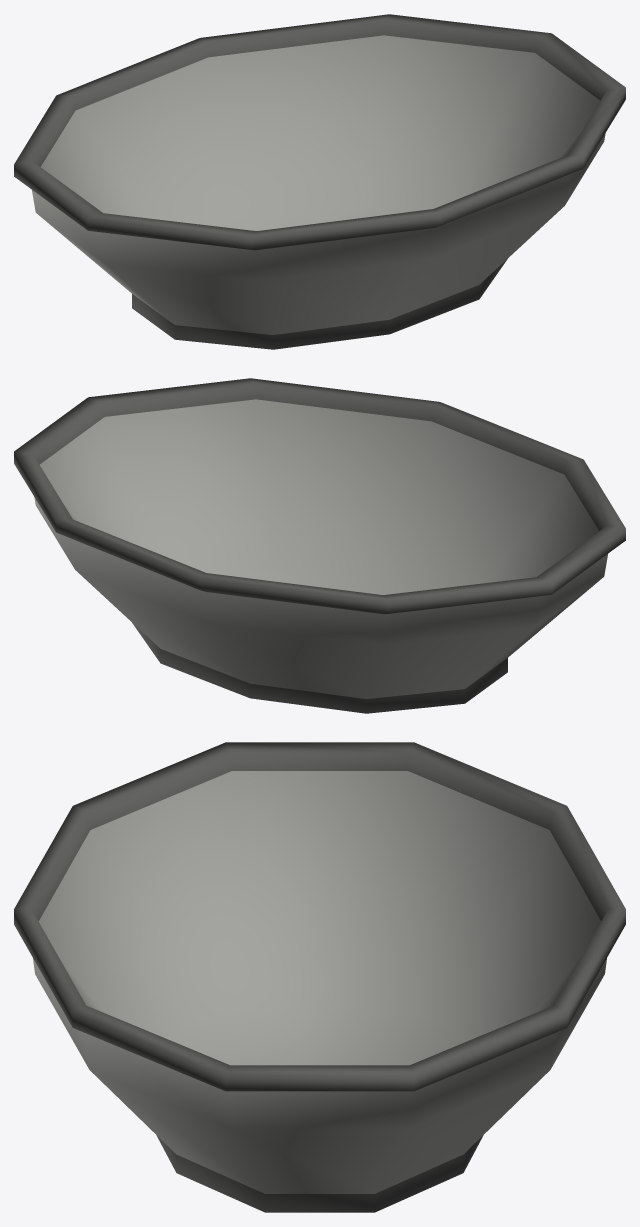
Rendered from rpgpp_ag_bowl_metal_01.fbx.
3 renders of one model, top to bottom at view 1: azimuth 30°, elevation 25°; view 2: azimuth 150°, elevation 25°; view 3: azimuth 270°, elevation 25°, orthographic. The views are drawn at different scales.
Parts seen in each view (by area): view 1: rpgpp_ag_bowl_metal_01; view 2: rpgpp_ag_bowl_metal_01; view 3: rpgpp_ag_bowl_metal_01.
Boxes of the visible parts, left/top/right/bottom form: rpgpp_ag_bowl_metal_01: left=14, top=14, right=625, bottom=349; rpgpp_ag_bowl_metal_01: left=14, top=378, right=625, bottom=713; rpgpp_ag_bowl_metal_01: left=14, top=742, right=625, bottom=1212.
Size of the model in its own units: 0.2173 by 0.0607 by 0.1684.
